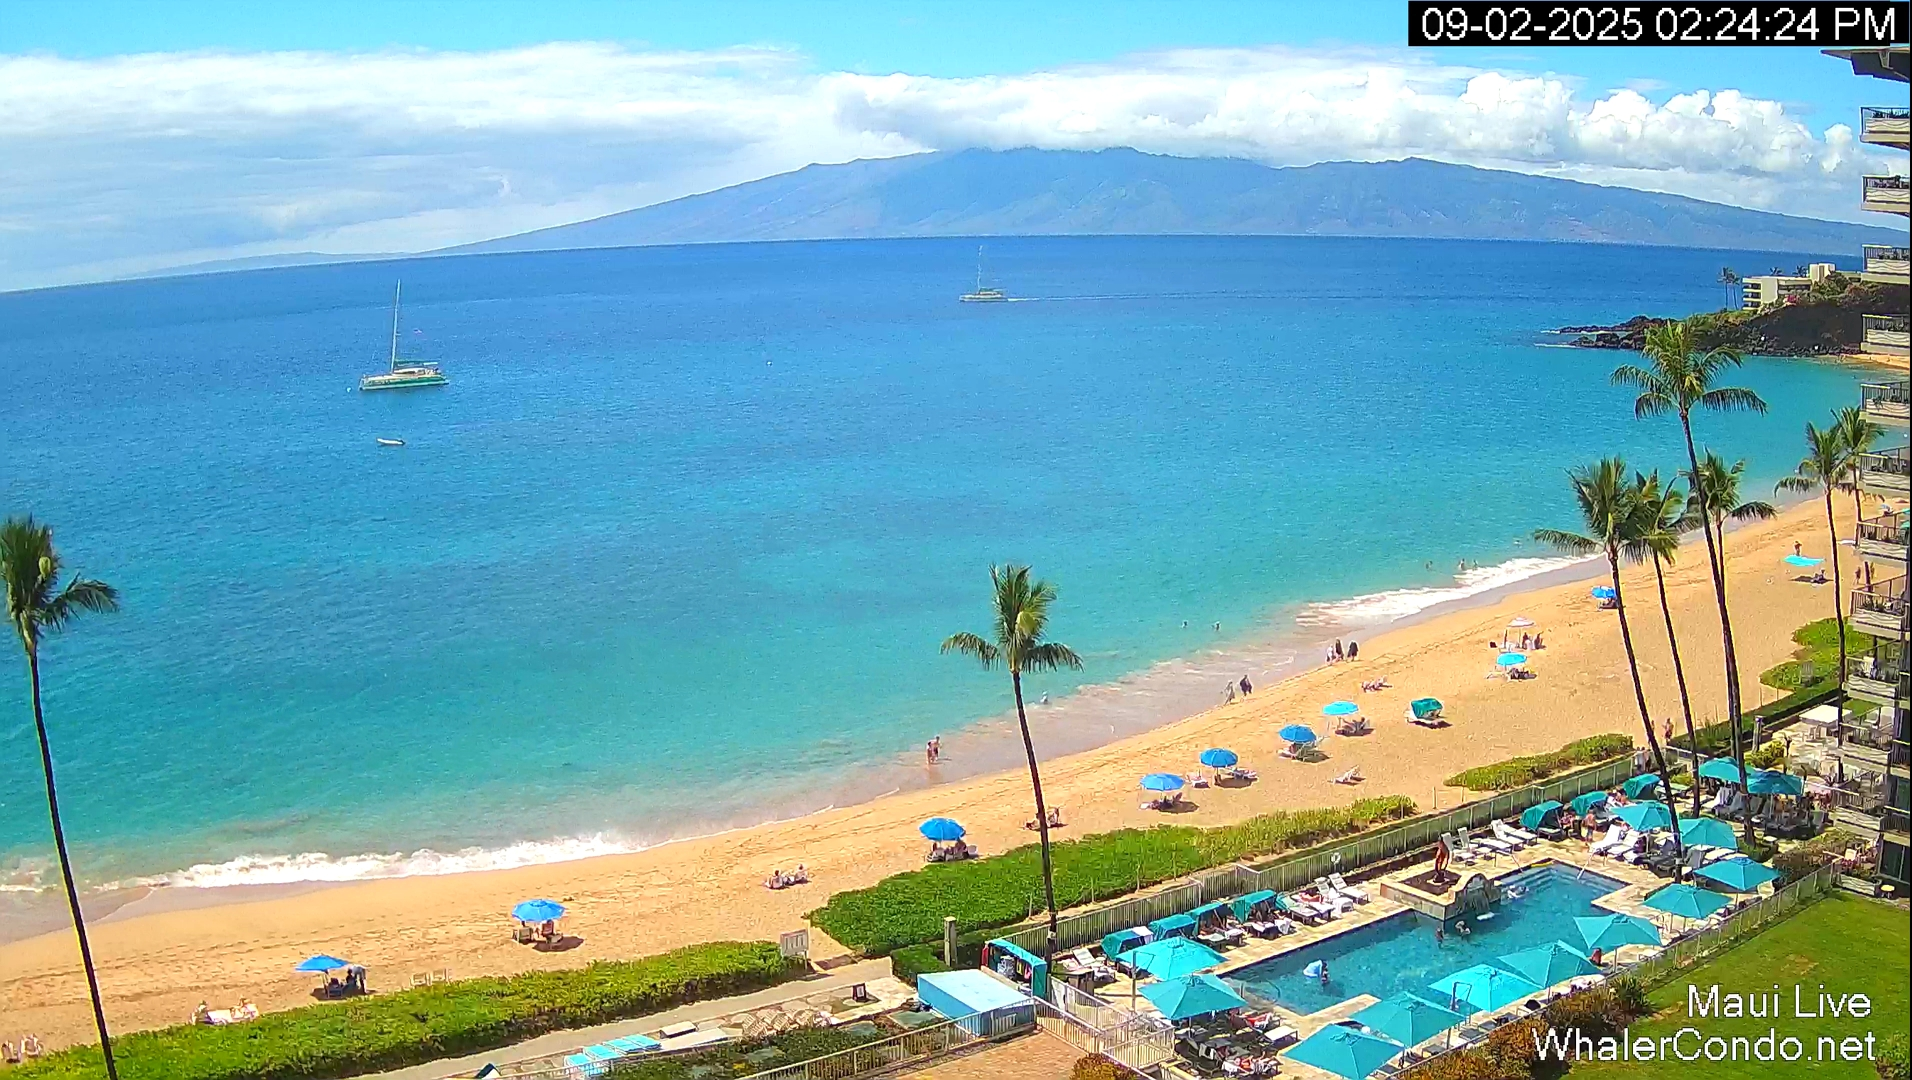boat: (358, 278, 449, 391), (486, 1033, 640, 1079), (958, 244, 1041, 303), (959, 288, 1009, 303), (1782, 555, 1825, 567)
person: (1582, 811, 1597, 842), (341, 968, 357, 997), (1239, 675, 1253, 700), (793, 864, 809, 884), (768, 870, 784, 889), (1223, 680, 1235, 705), (926, 740, 937, 764), (932, 736, 942, 760), (1792, 540, 1802, 557), (1853, 566, 1861, 586), (1522, 632, 1530, 649), (1522, 632, 1529, 640)
surfboard: (1782, 555, 1825, 567)
